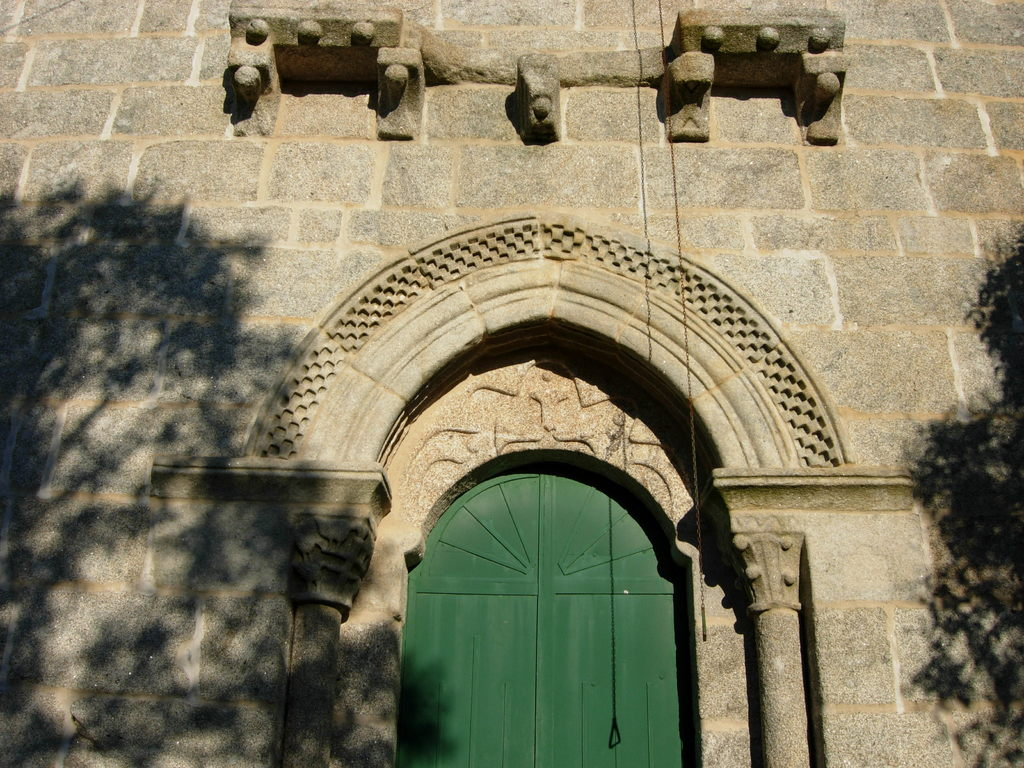door: (540, 507, 671, 768), (438, 506, 536, 768)
